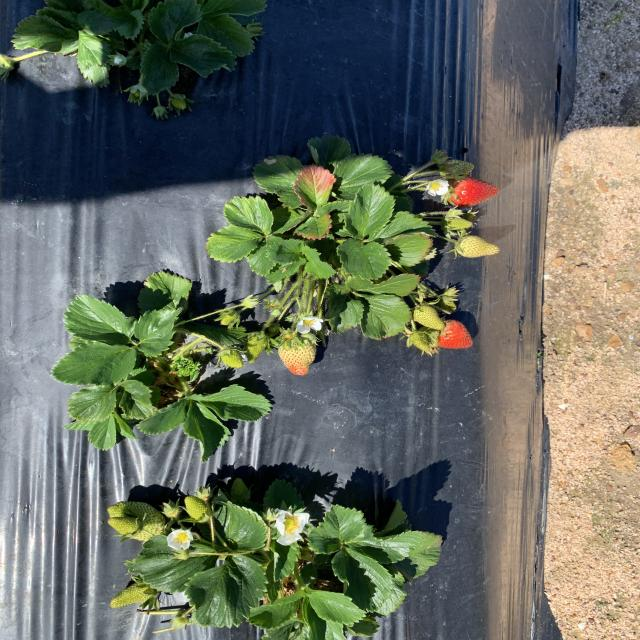unripe: (447, 179, 500, 206), (431, 318, 474, 348)
